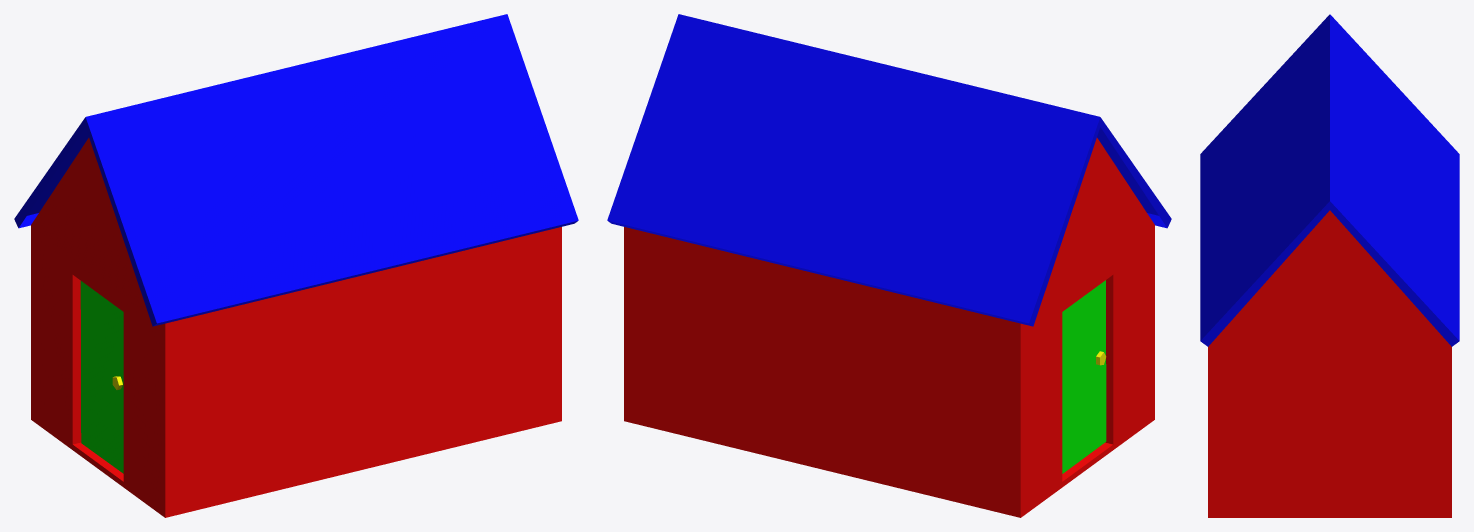
File: House.FBX
3 views of the same model, side by side, from view 1: azimuth 30°, elevation 25°; view 2: azimuth 150°, elevation 25°; view 3: azimuth 270°, elevation 25° (orthographic). The views are drawn at different scales.
Visible parts, largest first — view 1: HouseBase, HouseRoof, HouseDoor; view 2: HouseBase, HouseRoof, HouseDoor; view 3: HouseBase, HouseRoof.
Part boxes in pixels (<box>): HouseBase: <box>31,138,561,517</box>; HouseRoof: <box>14,14,578,326</box>; HouseDoor: <box>80,281,123,473</box>; HouseBase: <box>624,138,1154,517</box>; HouseRoof: <box>607,14,1171,326</box>; HouseDoor: <box>1062,280,1106,473</box>; HouseBase: <box>1208,210,1451,517</box>; HouseRoof: <box>1200,14,1459,346</box>.
Bounding box in the file's own units: 380 × 306 × 223.
